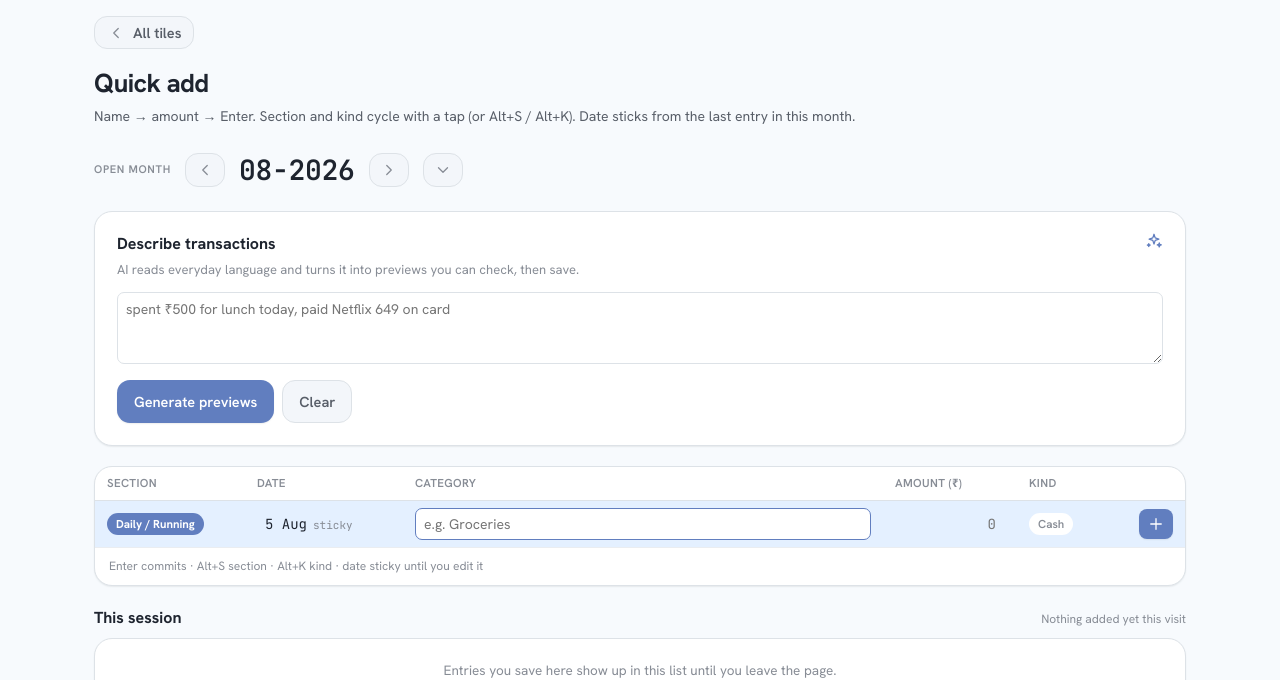
Test: RecordEntryPage › keeps multiple creates newest-first and sticks section
Expected: the heading "Quick add" is shown, [94,66,208,100]
Type "First" into the dropdown with placeholder "e.g. Groceries".
click(643, 524); type("First")  # box [415,508,871,540]
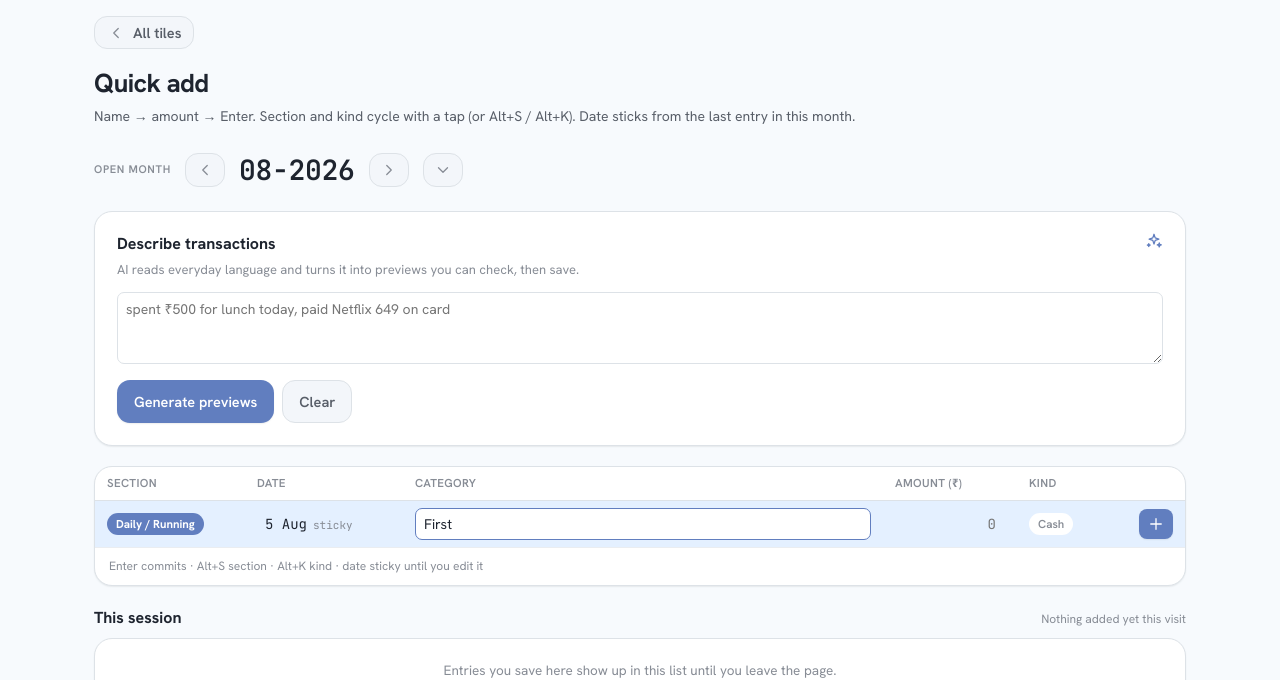
Type "10" into the field with placeholder "0".
click(950, 524); type("10")  # box [895,508,1005,540]
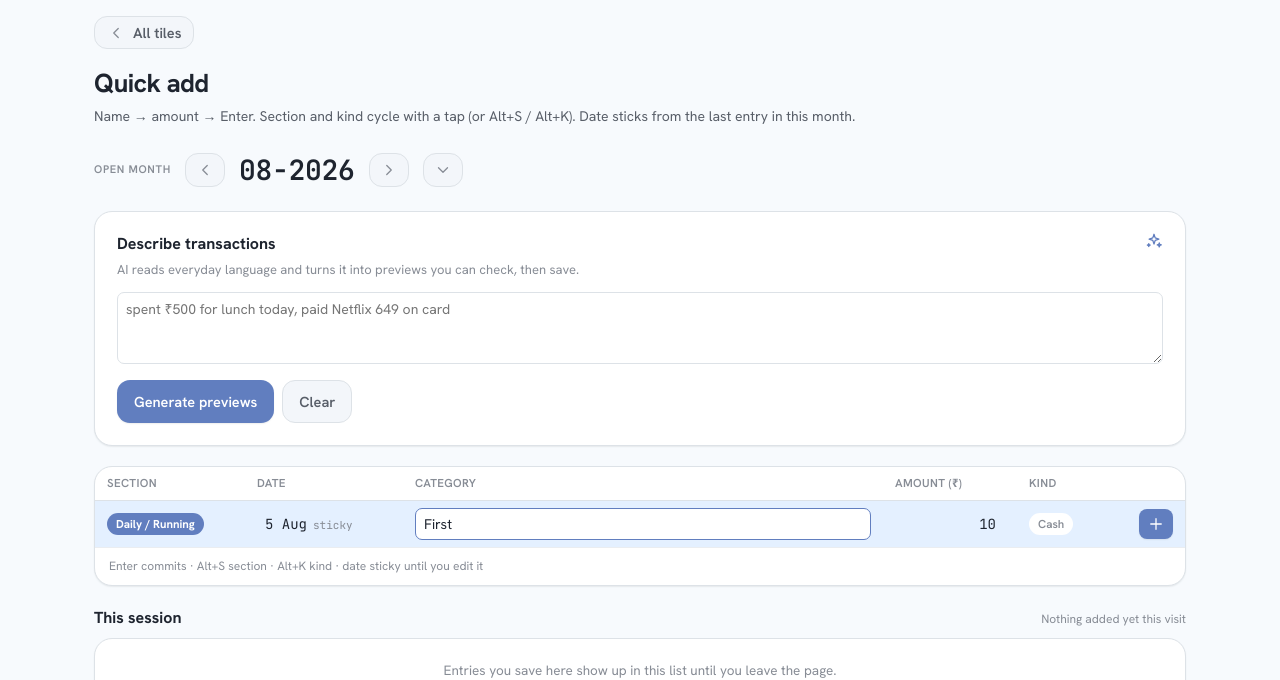
Click the button named "Add entry".
click(1156, 524)  # box [1139,509,1173,539]
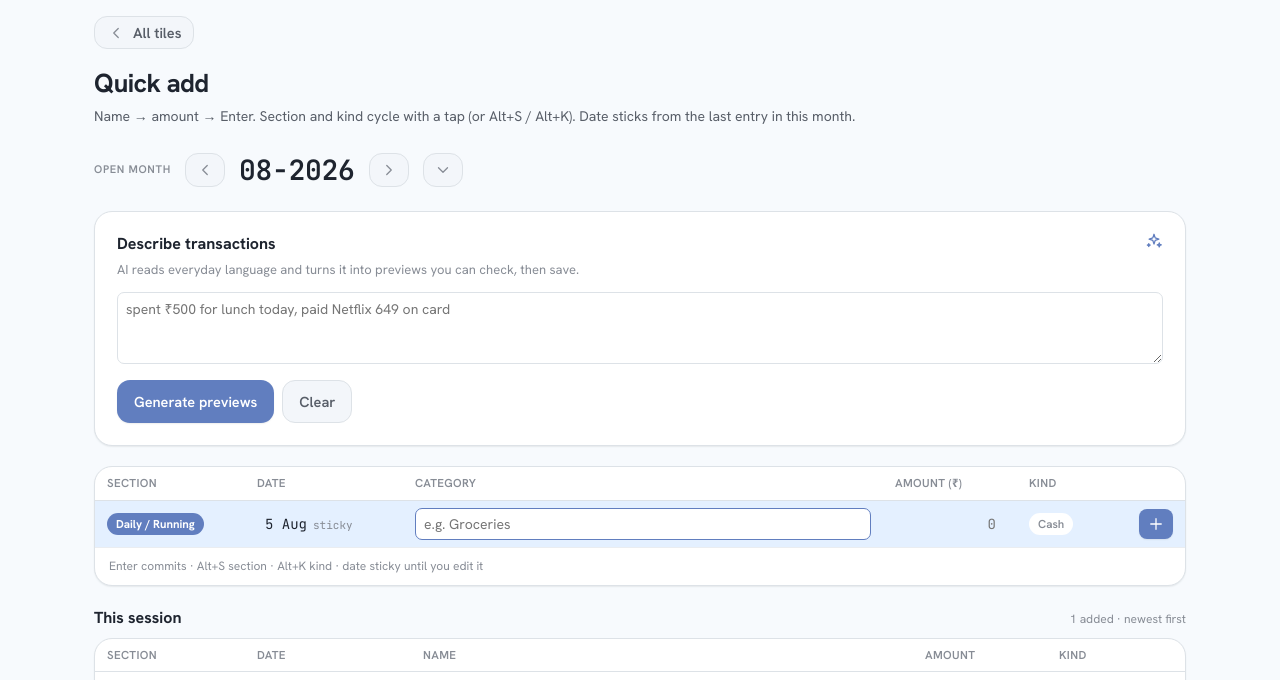
Type "Second" into the dropdown with placeholder "e.g. Groceries".
click(643, 524); type("Second")  # box [415,508,871,540]
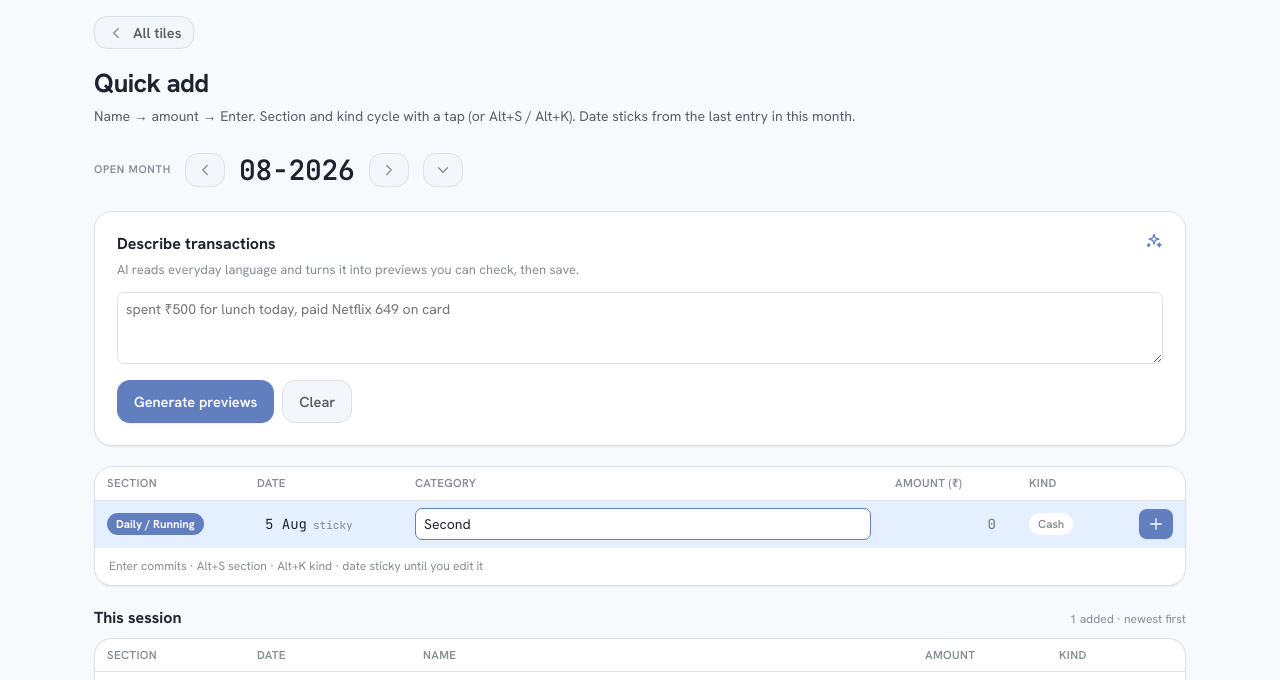
Type "20" into the field with placeholder "0".
click(950, 524); type("20")  # box [895,508,1005,540]
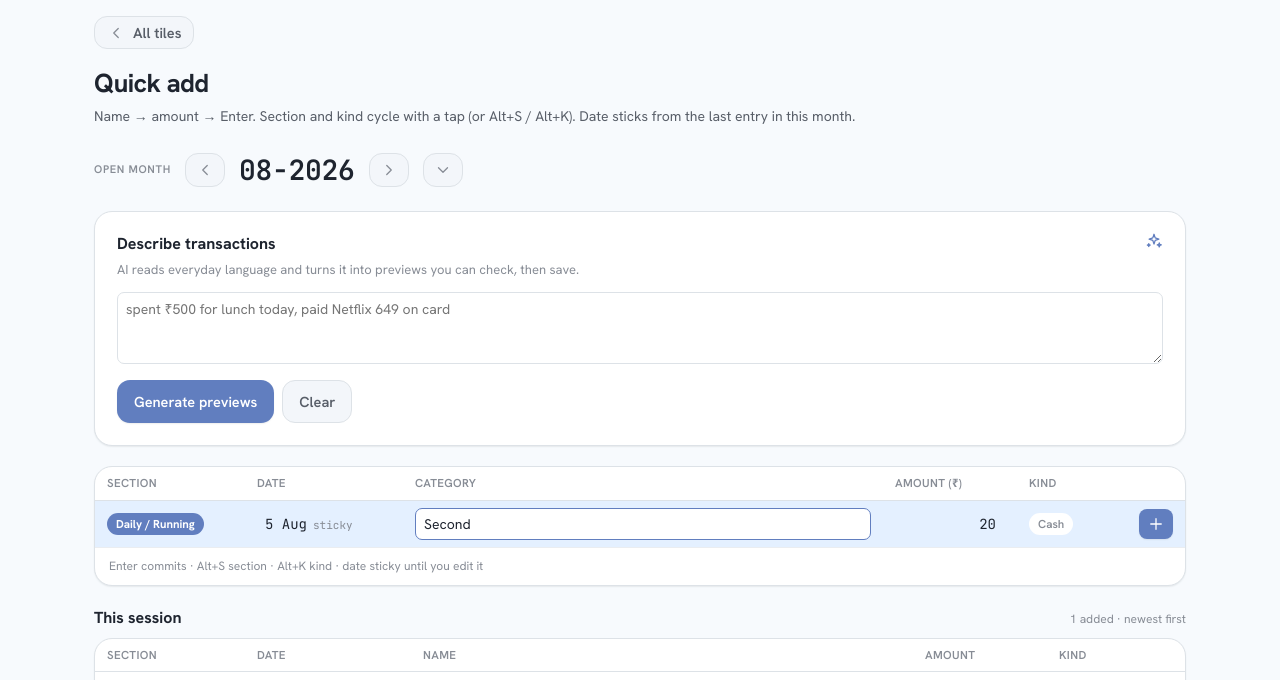
Click the button named "Add entry".
click(1156, 524)  # box [1139,509,1173,539]
(page scrolled)
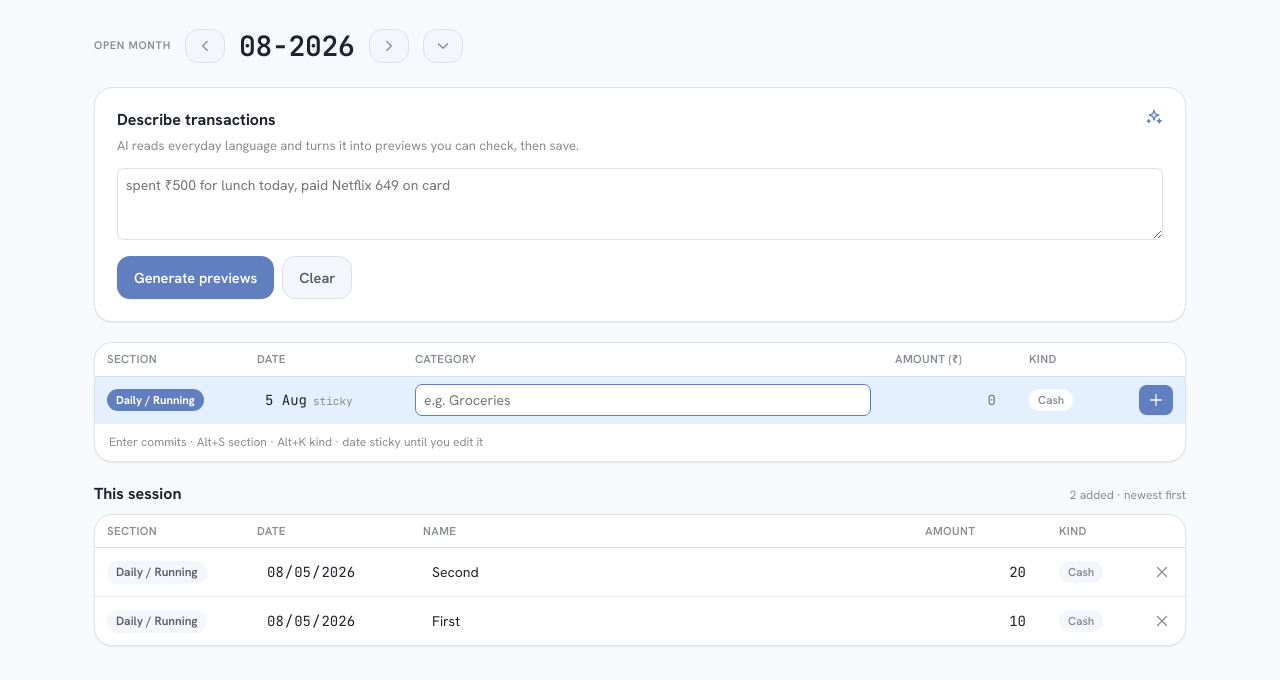
Now the 2nd dropdown showing "First" is shown, box [423,605,901,637]
Now the 1st dropdown showing "Second" is shown, box [423,556,901,588]
